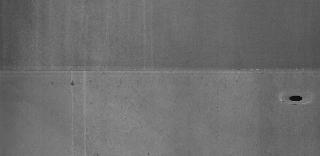punching hole: (286, 93, 308, 103)
welding line: (3, 66, 320, 80)
